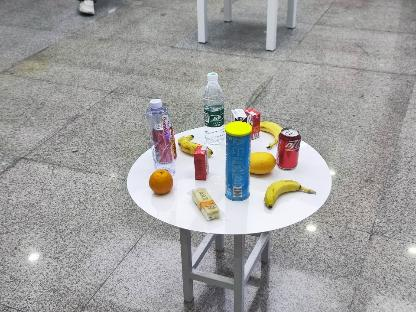Can: (277, 124, 301, 170)
Others: (220, 121, 250, 205), (194, 145, 212, 185)
Plastic Bottle: (203, 66, 225, 148), (148, 102, 174, 171)
